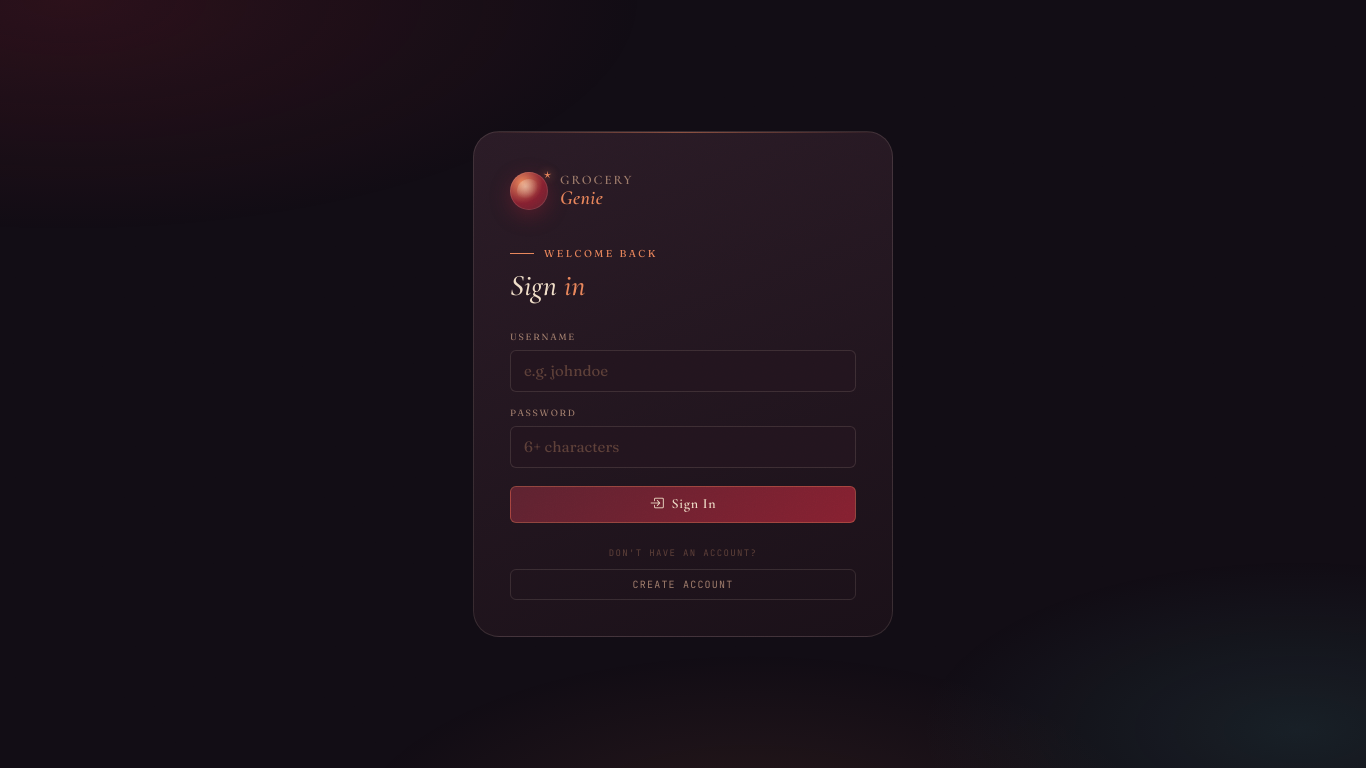
Test: login validation › shows error when submitting empty fields
What coordinates should you click on to do the following:
click the button "Sign In"
I would click on:
 (683, 505)
Its box is [510,486,856,523].
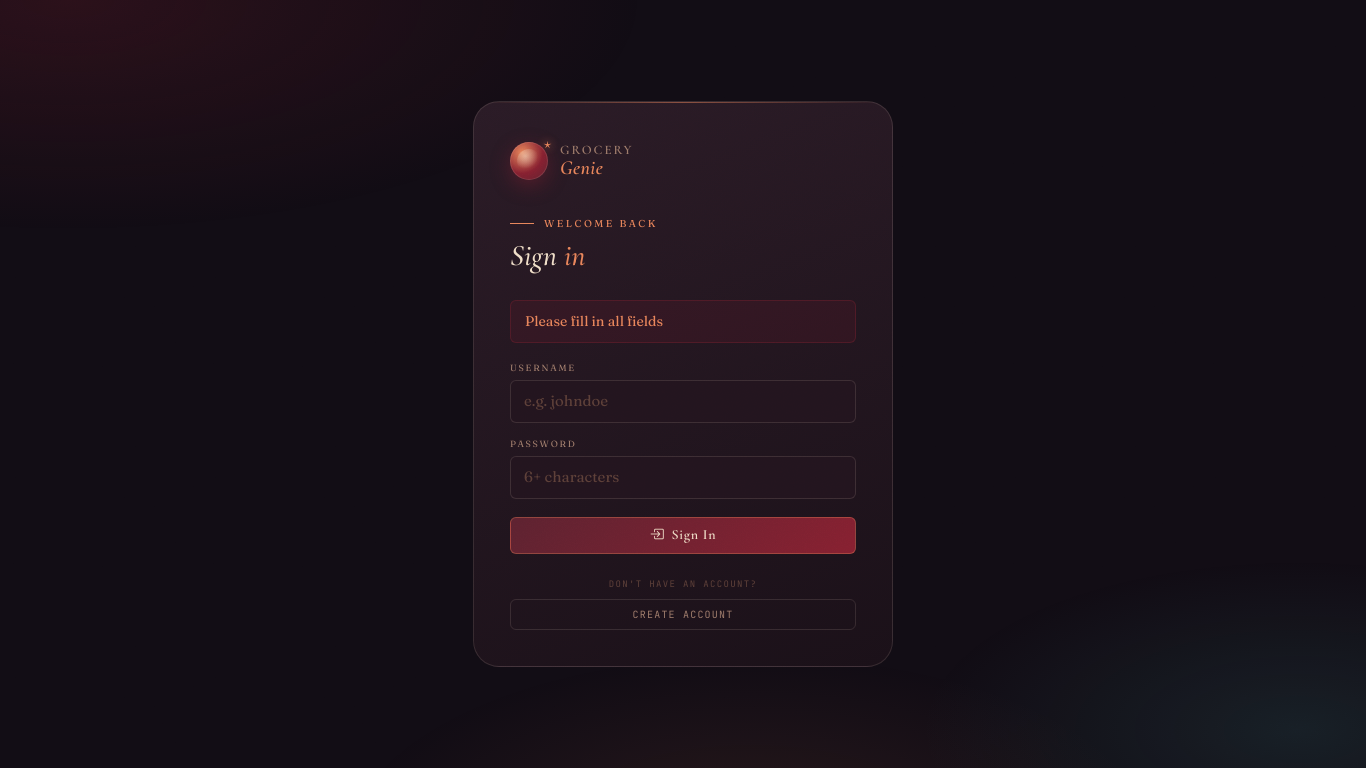
Now the text "Please fill in all fields" is shown, box [510,300,856,343]
